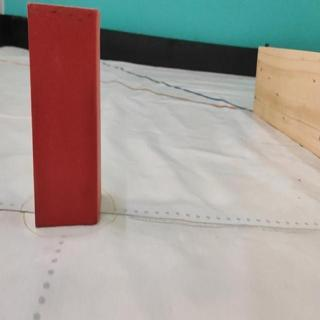redbox: (26, 2, 104, 229)
